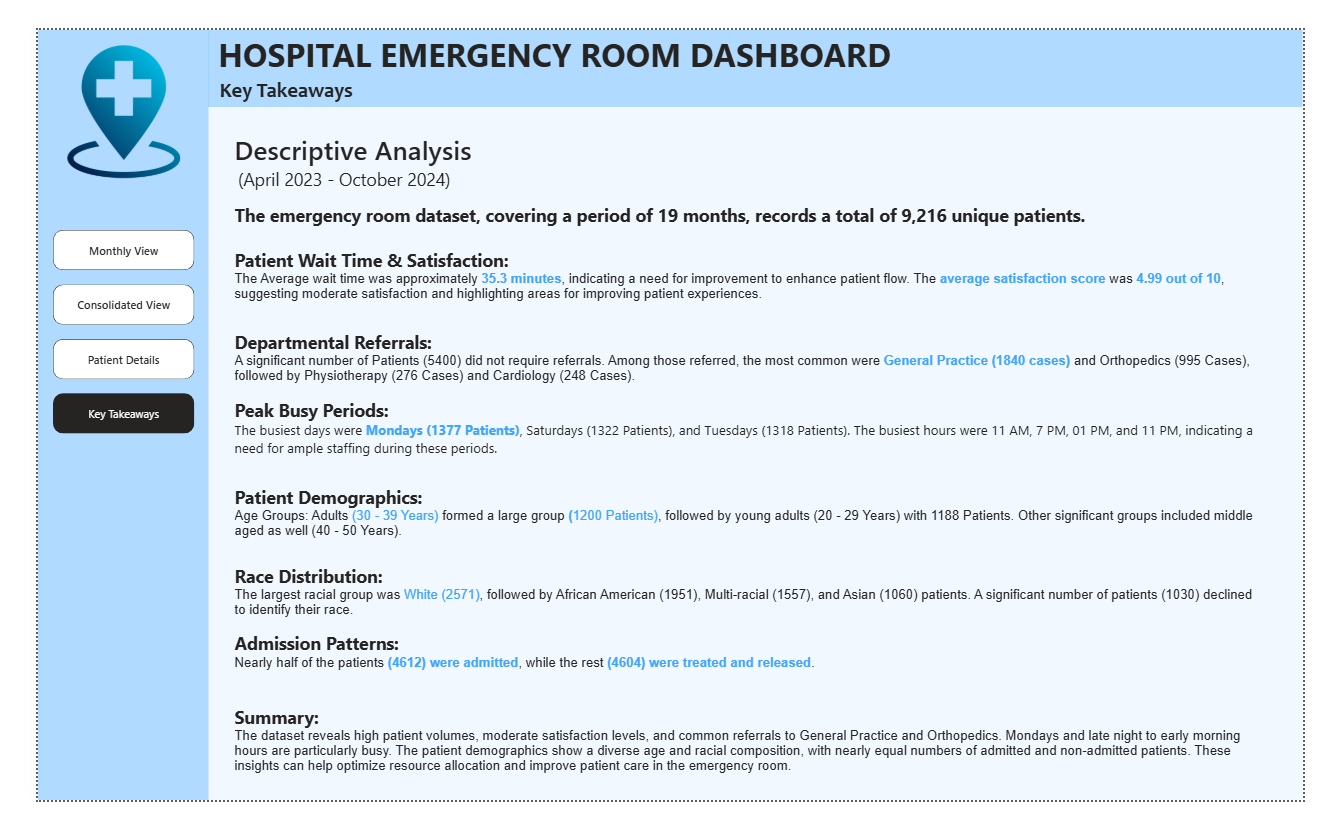

This screenshot's page, from the dashboard's own definition file:
{"tool":"powerbi","page":{"name":"Key Takeaways","canvas":[2300,1400],"ordinal":3},"visuals":[{"type":"shape","box":[0,0,310,1400.5],"z":0},{"type":"shape","box":[310,0,1990,140],"z":1000},{"type":"textbox","box":[323.9,0,1249.5,89.8],"z":2000},{"type":"textbox","box":[325,82.5,457.5,57.5],"z":3000},{"type":"textbox","box":[352.5,180,555,130],"z":4000},{"type":"textbox","box":[352.5,310,1862.5,80],"z":5000},{"type":"textbox","box":[352.5,390,1862.5,150],"z":6000},{"type":"textbox","box":[352.5,540,1862.5,122.5],"z":7000},{"type":"textbox","box":[352.5,662.5,1862.5,125],"z":8000},{"type":"textbox","box":[352.5,822.5,1862.5,125],"z":9000},{"type":"textbox","box":[352.5,965,1862.5,122.5],"z":10000},{"type":"textbox","box":[352.5,1087.5,1862.5,122.5],"z":11000},{"type":"textbox","box":[352.5,1222.5,1862.5,177.5],"z":12000},{"type":"pageNavigator","box":[27.5,362.5,257.5,370],"z":13000},{"type":"image","box":[27.5,27.5,257.5,242.5],"z":14000}]}

Visuals, with their boxes in screenshot pixels (x1, y1, x2, y2), scaled from the page's 2300x1400 canvas onto the 1325x831 screenshot:
shape: <bbox>0, 0, 179, 830</bbox>
shape: <bbox>179, 0, 1324, 83</bbox>
textbox: <bbox>187, 0, 906, 53</bbox>
textbox: <bbox>187, 49, 451, 83</bbox>
textbox: <bbox>203, 107, 523, 184</bbox>
textbox: <bbox>203, 184, 1276, 231</bbox>
textbox: <bbox>203, 231, 1276, 321</bbox>
textbox: <bbox>203, 321, 1276, 393</bbox>
textbox: <bbox>203, 393, 1276, 467</bbox>
textbox: <bbox>203, 488, 1276, 562</bbox>
textbox: <bbox>203, 573, 1276, 646</bbox>
textbox: <bbox>203, 646, 1276, 718</bbox>
textbox: <bbox>203, 726, 1276, 830</bbox>
pageNavigator: <bbox>16, 215, 164, 435</bbox>
image: <bbox>16, 16, 164, 160</bbox>
